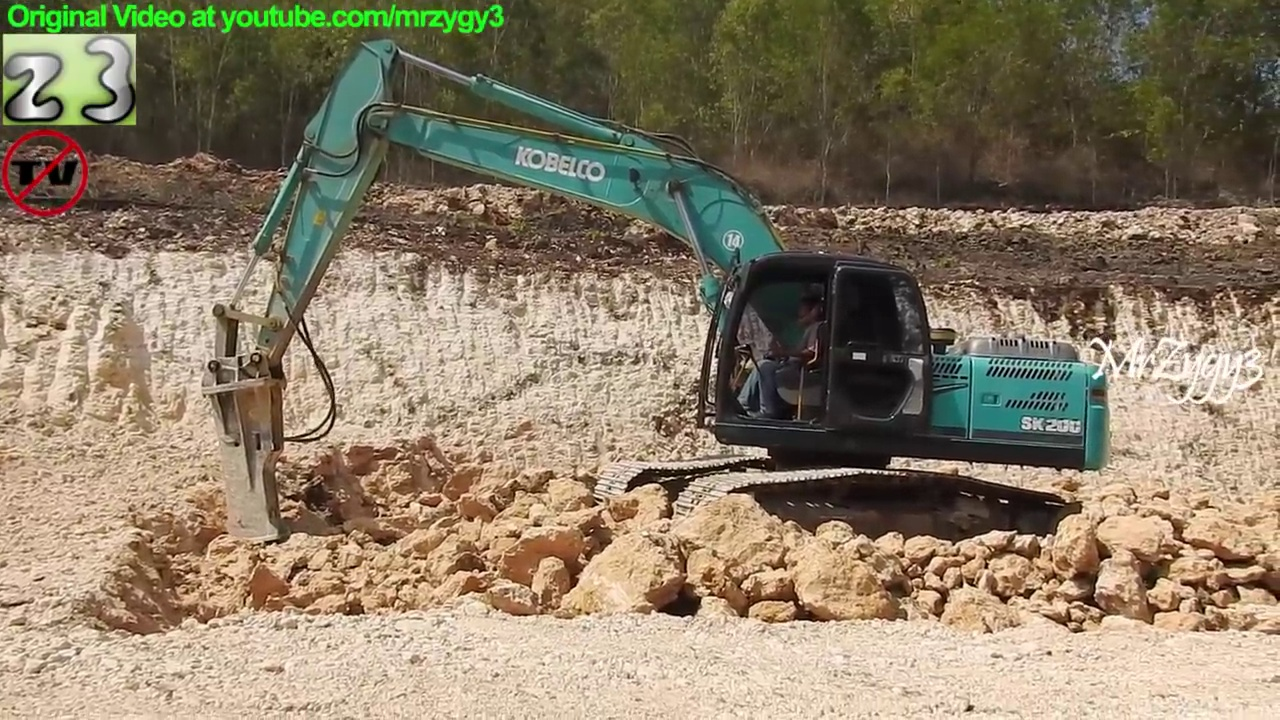excavator breaker: (196, 33, 1117, 572)
